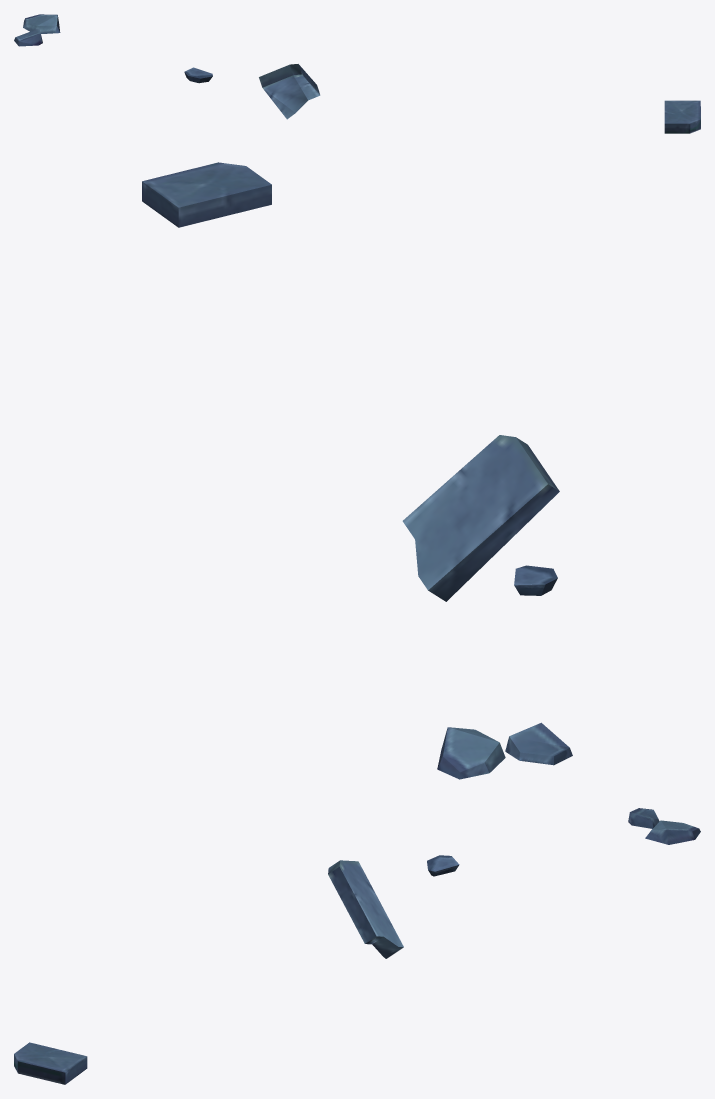
The model's file is Area08_7.fbx.
3 views of the same model, one above another, from view 1: azimuth 30°, elevation 25°; view 2: azimuth 150°, elevation 25°; view 3: azimuth 270°, elevation 25° (orthographic). The views are drawn at different scales.
Visible parts, largest first — view 1: Area08_7; view 2: Area08_7; view 3: Area08_7.
Part boxes in pixels (<box>): Area08_7: <box>14,14,700,133</box>; Area08_7: <box>142,162,572,779</box>; Area08_7: <box>14,808,700,1084</box>.
Size of the model in its own units: 1912 by 296 by 2065.
Materials: 1 (1 with a texture image).
